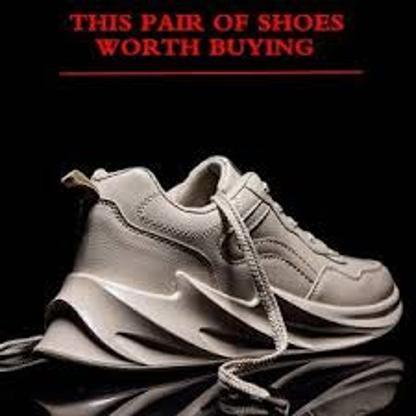not trash: (34, 156, 403, 367)
